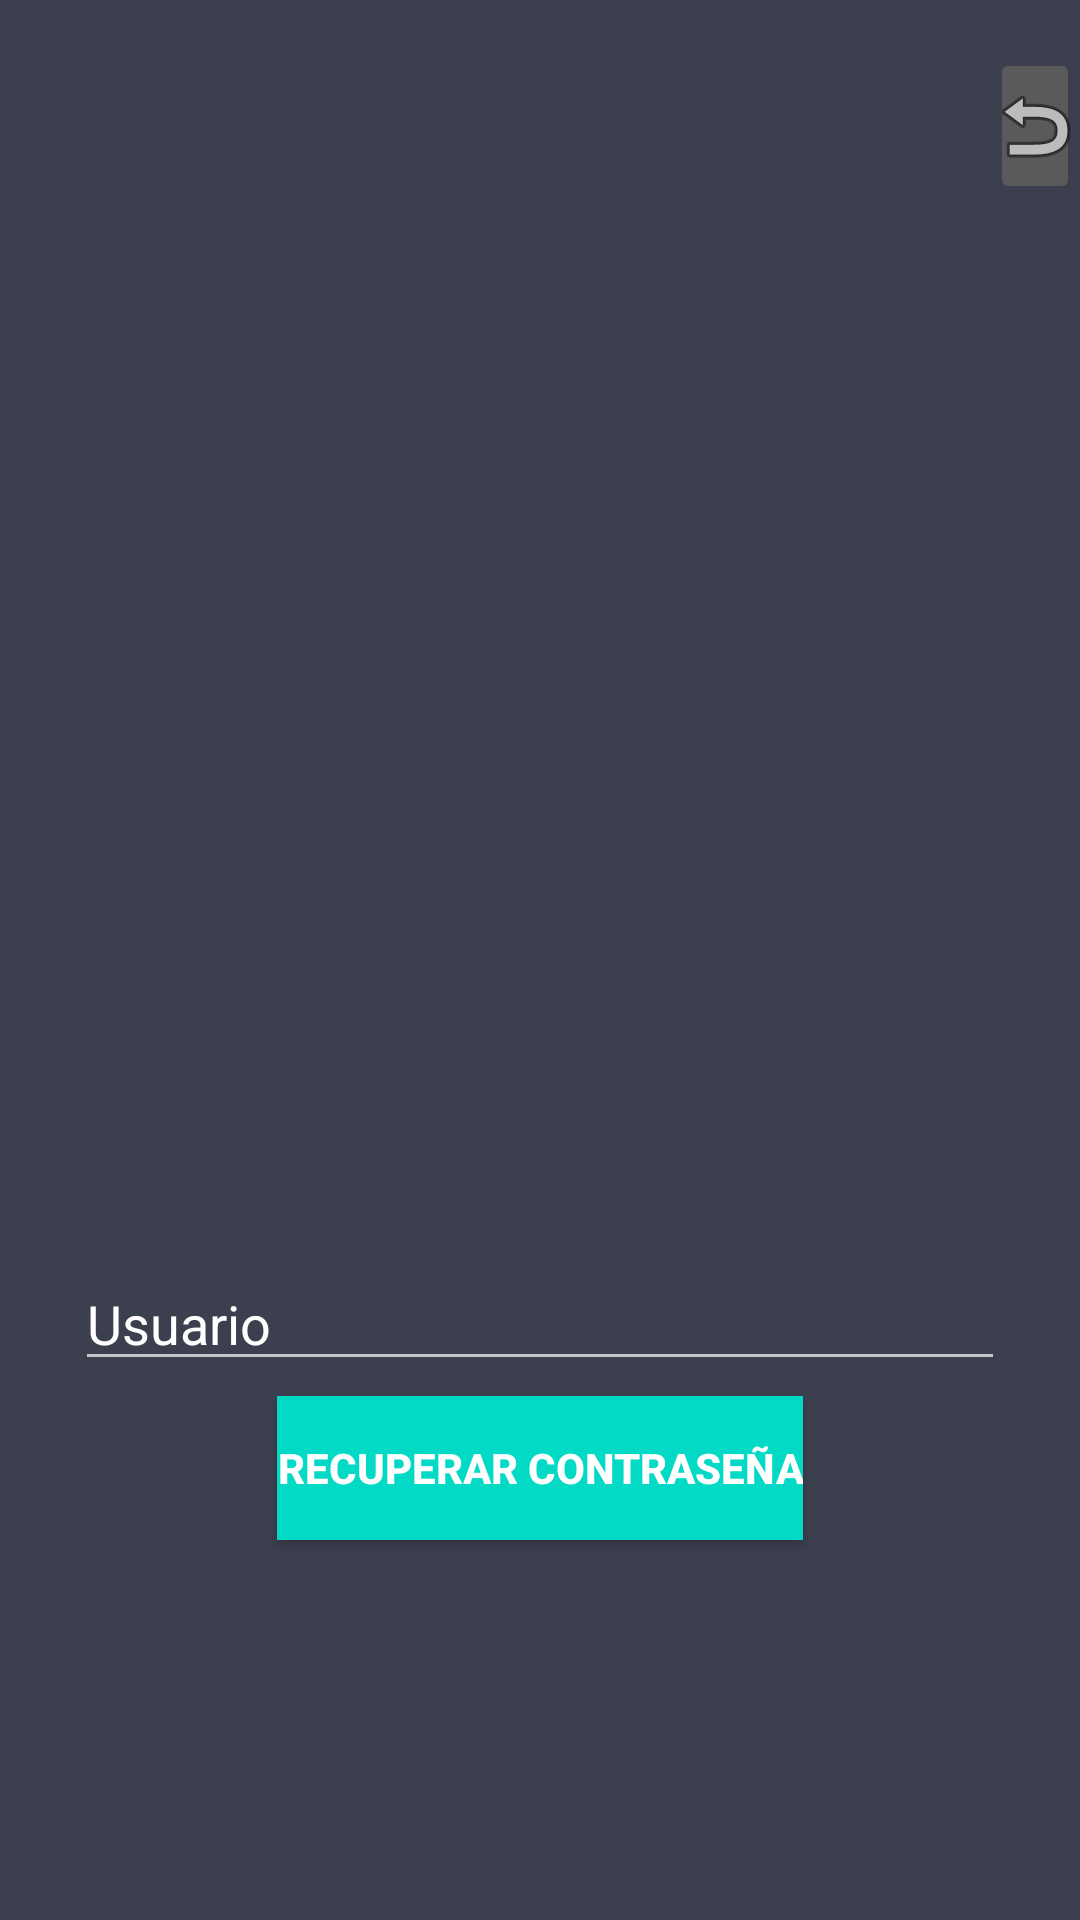

Point at icon controls on the screen. Image size 1080×1920, points as [x,y].
revert: [1036,126]
